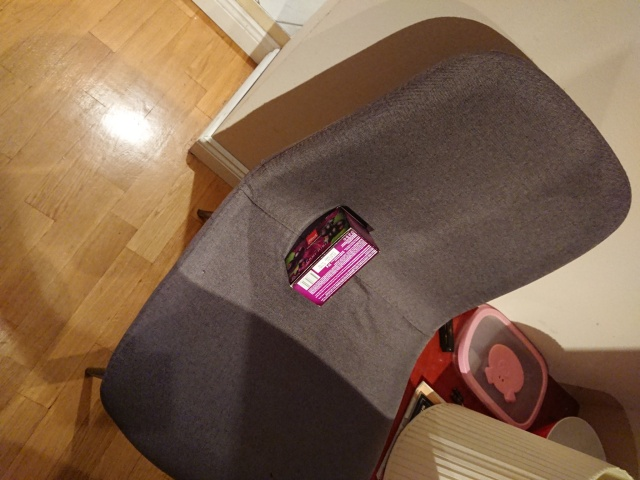Franck Black Currant Tea 60g: (281, 203, 382, 309)
